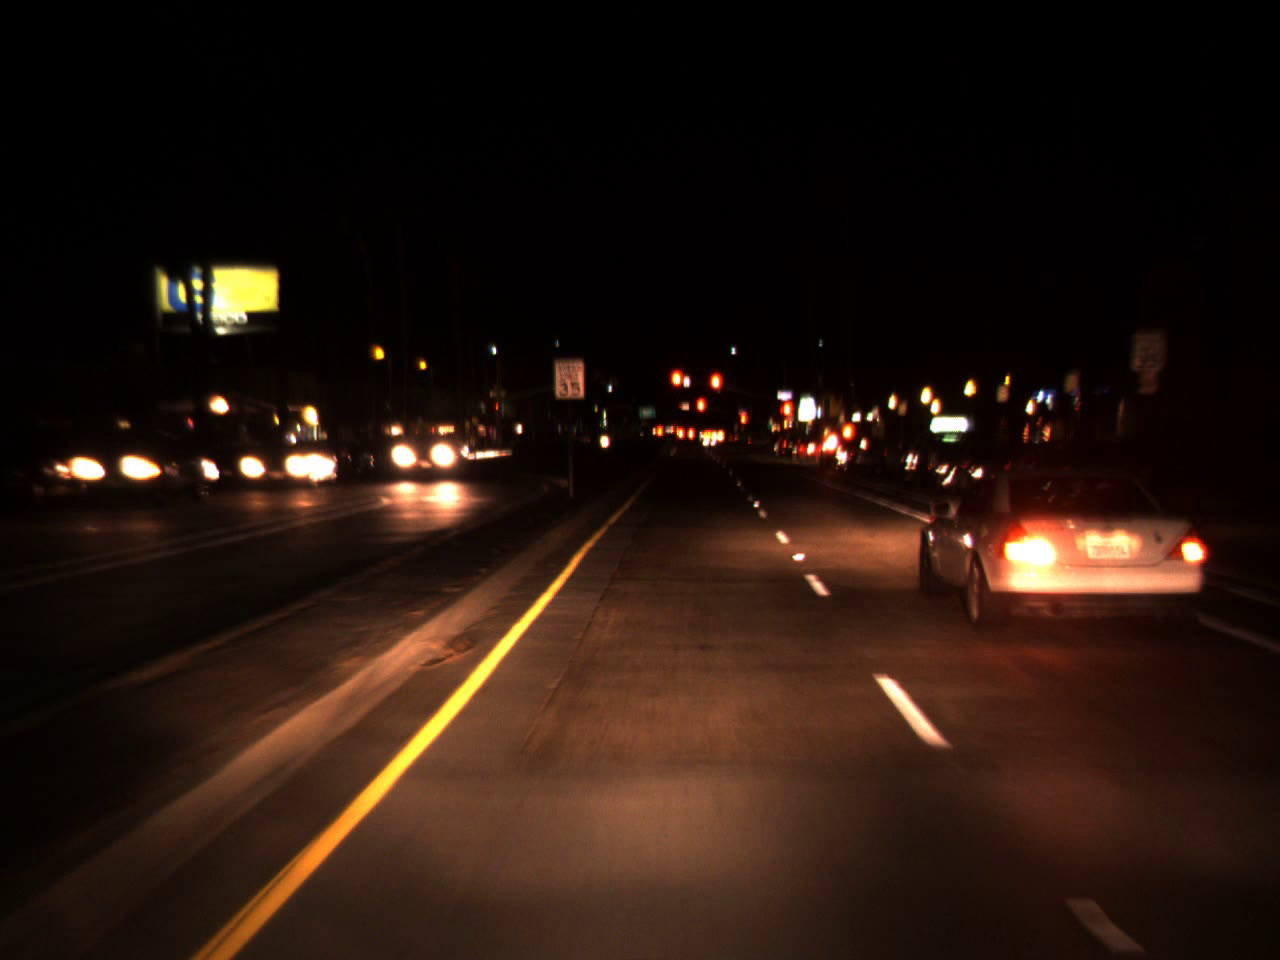stop: (667, 367, 686, 407), (707, 370, 723, 410), (695, 394, 707, 431), (782, 401, 792, 430), (739, 409, 746, 441)
